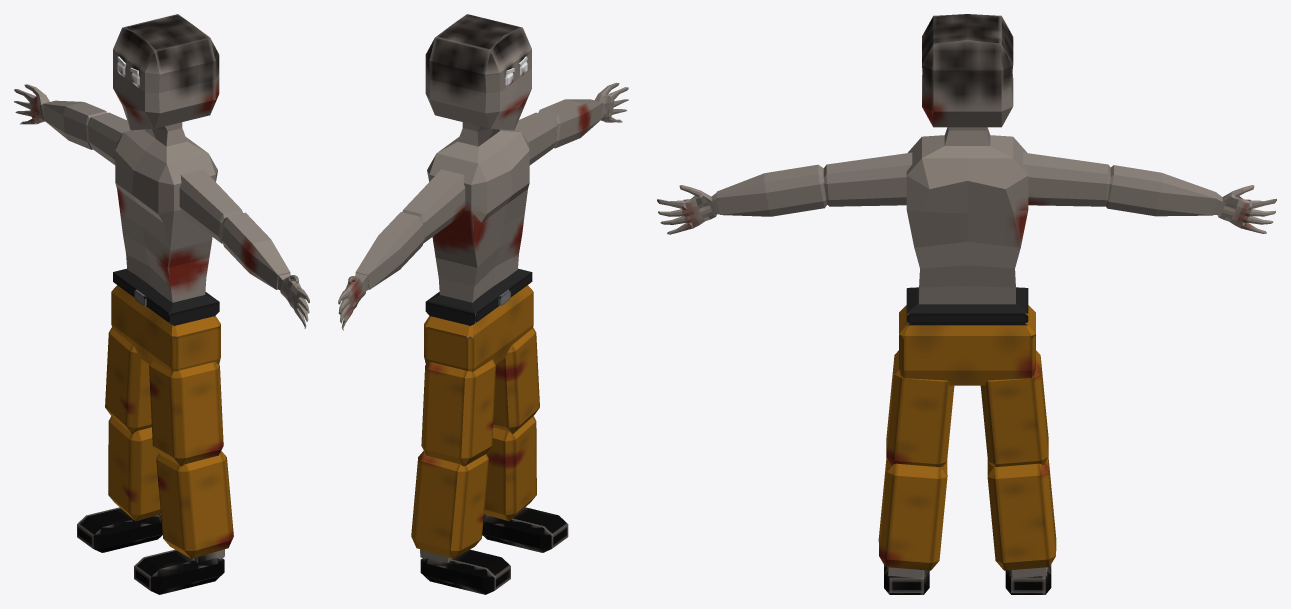
Rendered from zombieManType1.fbx.
The picture shows the model from 3 angles, left to right: view 1: azimuth 30°, elevation 25°; view 2: azimuth 150°, elevation 25°; view 3: azimuth 270°, elevation 25°; orthographic projection. The views are drawn at different scales.
Parts seen in each view (by area): view 1: beveled_cuboid_7, beveled_cuboid_12, beveled_cuboid_18, beveled_cuboid_21, beveled_cuboid_19, beveled_cuboid_22, beveled_cuboid_17, beveled_cuboid_11, beveled_cuboid_1, beveled_cuboid, beveled_cuboid_10, beveled_cuboid_20 (+4 smaller); view 2: beveled_cuboid_7, beveled_cuboid_12, beveled_cuboid_17, beveled_cuboid_22, beveled_cuboid_19, beveled_cuboid_21, beveled_cuboid_18, beveled_cuboid_9, beveled_cuboid, beveled_cuboid_1, beveled_cuboid_8, beveled_cuboid_20 (+4 smaller); view 3: beveled_cuboid_7, beveled_cuboid_12, beveled_cuboid_19, beveled_cuboid_22, beveled_cuboid_21, beveled_cuboid_17, beveled_cuboid_18, beveled_cuboid_11, beveled_cuboid_9, beveled_cuboid_10, beveled_cuboid_8, beveled_cuboid_20 (+4 smaller).
Part boxes in pixels (x1=…): beveled_cuboid_7: x1=115, y1=122, x2=217, y2=302; beveled_cuboid_12: x1=113, y1=14, x2=219, y2=130; beveled_cuboid_18: x1=149, y1=359, x2=223, y2=466; beveled_cuboid_21: x1=156, y1=451, x2=233, y2=558; beveled_cuboid_19: x1=111, y1=285, x2=220, y2=371; beveled_cuboid_22: x1=108, y1=416, x2=160, y2=521; beveled_cuboid_17: x1=105, y1=327, x2=151, y2=433; beveled_cuboid_11: x1=221, y1=212, x2=290, y2=289; beveled_cuboid_1: x1=134, y1=549, x2=224, y2=594; beveled_cuboid: x1=77, y1=507, x2=162, y2=552; beveled_cuboid_10: x1=179, y1=169, x2=242, y2=243; beveled_cuboid_20: x1=113, y1=268, x2=219, y2=325; beveled_cuboid_7: x1=427, y1=122, x2=529, y2=302; beveled_cuboid_12: x1=425, y1=14, x2=531, y2=130; beveled_cuboid_17: x1=421, y1=359, x2=495, y2=466; beveled_cuboid_22: x1=411, y1=451, x2=488, y2=558; beveled_cuboid_19: x1=424, y1=285, x2=533, y2=371; beveled_cuboid_21: x1=484, y1=416, x2=536, y2=521; beveled_cuboid_18: x1=493, y1=327, x2=539, y2=433; beveled_cuboid_9: x1=355, y1=212, x2=424, y2=289; beveled_cuboid: x1=420, y1=549, x2=510, y2=594; beveled_cuboid_1: x1=482, y1=507, x2=568, y2=552; beveled_cuboid_8: x1=402, y1=169, x2=465, y2=243; beveled_cuboid_20: x1=425, y1=268, x2=532, y2=325; beveled_cuboid_7: x1=906, y1=127, x2=1028, y2=304; beveled_cuboid_12: x1=922, y1=14, x2=1013, y2=127; beveled_cuboid_19: x1=899, y1=305, x2=1035, y2=385; beveled_cuboid_22: x1=987, y1=457, x2=1056, y2=570; beveled_cuboid_21: x1=878, y1=457, x2=947, y2=570; beveled_cuboid_17: x1=980, y1=350, x2=1048, y2=467; beveled_cuboid_18: x1=886, y1=350, x2=954, y2=467; beveled_cuboid_11: x1=716, y1=164, x2=827, y2=216; beveled_cuboid_9: x1=1106, y1=165, x2=1216, y2=216; beveled_cuboid_10: x1=823, y1=152, x2=912, y2=206; beveled_cuboid_8: x1=1023, y1=152, x2=1110, y2=206; beveled_cuboid_20: x1=906, y1=287, x2=1028, y2=325.
Bounding box in the file's own units: 90.62 × 509 × 510.
2 materials, 2 textured.
